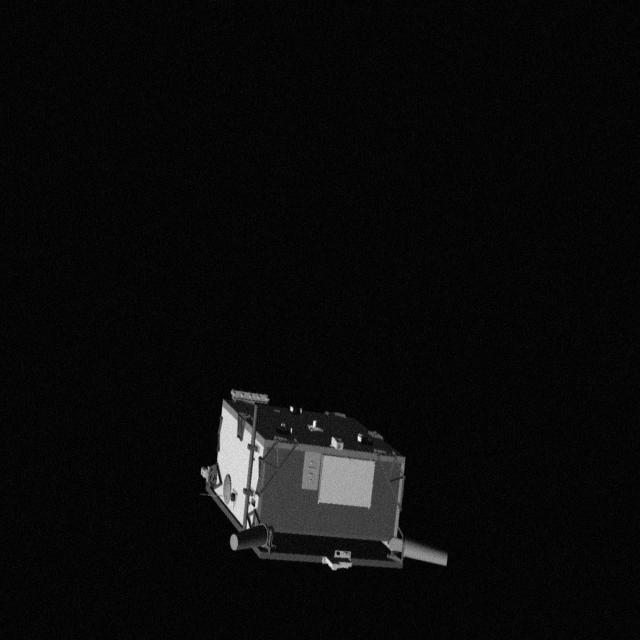satellite: (186, 390, 458, 582)
